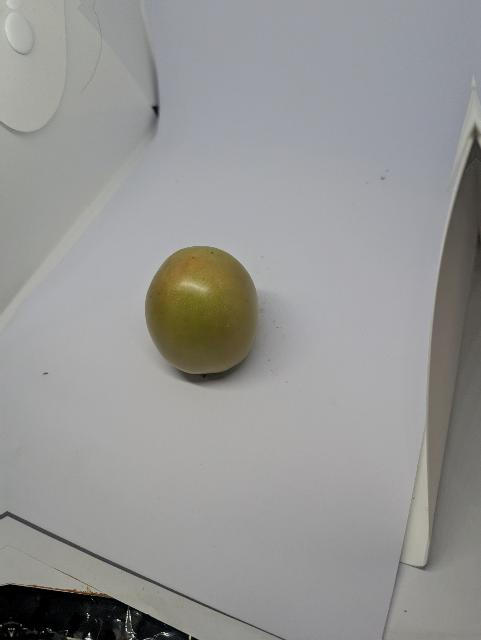breaker: (140, 241, 262, 383)
